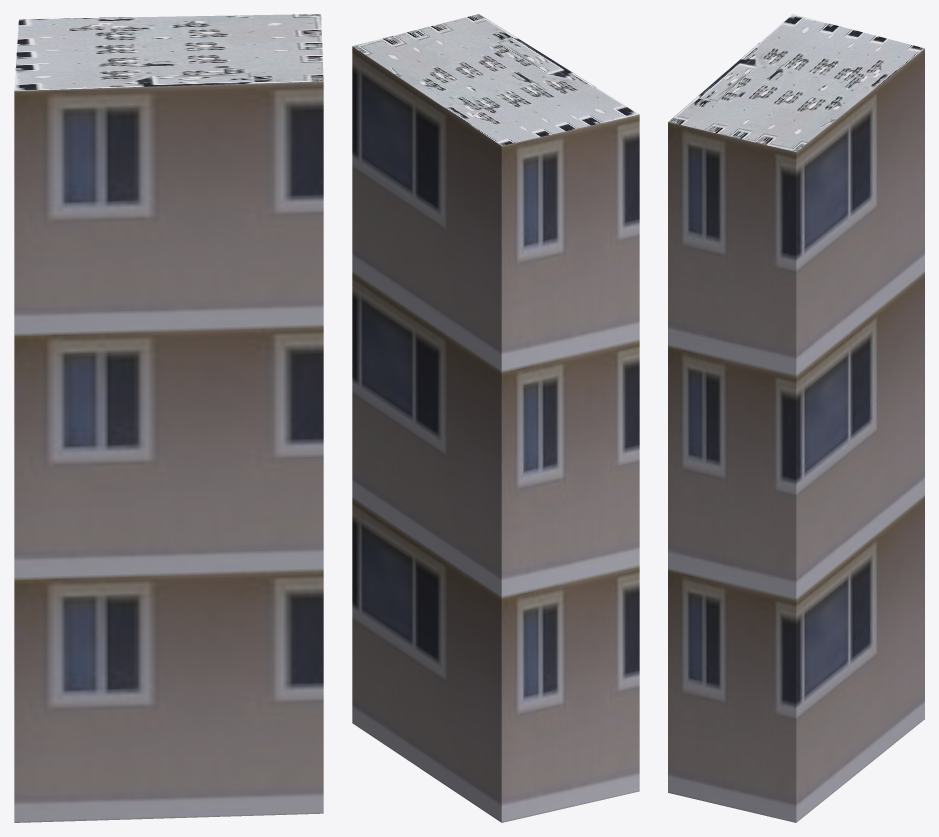
The model's file is ResTex__3027.fbx.
3 views of the same model, side by side, from view 1: azimuth 30°, elevation 25°; view 2: azimuth 150°, elevation 25°; view 3: azimuth 270°, elevation 25° (orthographic). The views are drawn at different scales.
Parts seen in each view (by area): view 1: CityEngineMaterial_21_m, CityEngineMaterial_m; view 2: CityEngineMaterial_21_m, CityEngineMaterial_m; view 3: CityEngineMaterial_21_m, CityEngineMaterial_m.
Part boxes in pixels (left/top/right/bottom): CityEngineMaterial_21_m: left=14, top=81, right=323, bottom=822; CityEngineMaterial_m: left=14, top=14, right=323, bottom=90; CityEngineMaterial_21_m: left=352, top=46, right=639, bottom=822; CityEngineMaterial_m: left=352, top=14, right=639, bottom=145; CityEngineMaterial_21_m: left=668, top=48, right=924, bottom=822; CityEngineMaterial_m: left=668, top=14, right=924, bottom=151.
Size of the model in its own units: 3.97 by 9 by 3.12.
2 materials, 2 textured.
